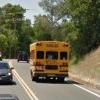Bus: (24, 36, 69, 84)
